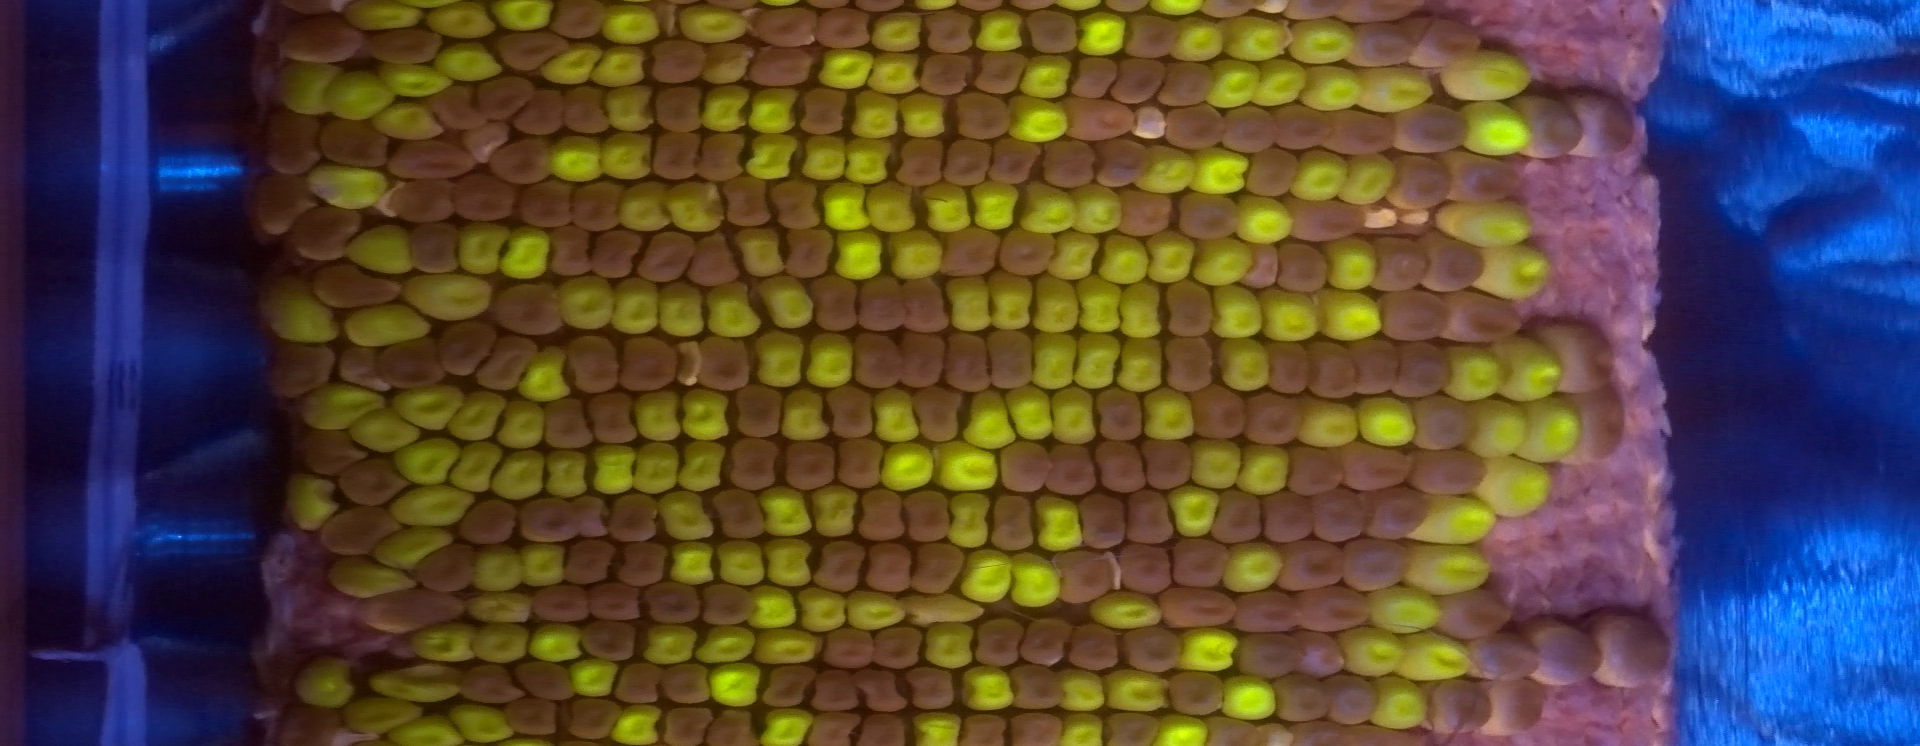fluorescent: (1429, 48, 1538, 108), (1488, 331, 1566, 410), (1469, 451, 1553, 526), (261, 271, 348, 342), (285, 381, 389, 432), (1250, 281, 1329, 347), (752, 274, 827, 343), (1406, 539, 1494, 595), (402, 269, 496, 322), (1441, 200, 1533, 254), (1434, 342, 1509, 408), (1411, 489, 1491, 549), (272, 58, 353, 118), (1477, 243, 1553, 305), (322, 67, 405, 124), (1522, 390, 1583, 464), (279, 470, 344, 540), (1335, 625, 1406, 686), (1069, 323, 1129, 394), (928, 439, 1002, 496), (1468, 392, 1524, 467), (340, 223, 418, 277), (365, 661, 464, 703), (1135, 383, 1201, 446), (1311, 290, 1386, 345), (1172, 621, 1240, 681), (1458, 98, 1529, 156), (290, 655, 362, 712), (1287, 15, 1362, 69), (1365, 586, 1441, 638), (348, 299, 433, 345), (328, 551, 414, 598), (1024, 323, 1080, 393), (339, 693, 433, 735), (1220, 12, 1296, 64), (446, 388, 509, 450), (654, 281, 714, 345), (384, 484, 478, 526), (1112, 333, 1172, 397), (962, 390, 1022, 453), (1044, 385, 1100, 453), (345, 404, 420, 454), (700, 281, 763, 341), (1296, 393, 1359, 452), (1393, 628, 1464, 681), (664, 179, 729, 236), (967, 175, 1024, 241), (369, 98, 441, 149), (1236, 434, 1291, 501), (1207, 58, 1269, 118), (560, 274, 621, 334), (1338, 146, 1397, 208), (1216, 331, 1273, 394), (753, 327, 807, 394), (391, 437, 467, 485), (1209, 282, 1267, 343), (1354, 396, 1420, 450), (1217, 673, 1283, 726), (1064, 179, 1123, 239), (833, 224, 890, 285), (369, 524, 451, 567), (673, 4, 756, 47), (307, 165, 389, 208), (1356, 66, 1433, 111), (1089, 586, 1160, 635), (1004, 377, 1056, 445), (1233, 186, 1291, 246), (940, 271, 998, 331), (1296, 65, 1368, 113), (516, 344, 572, 405), (1370, 679, 1431, 735), (632, 441, 682, 510), (984, 267, 1038, 331), (1102, 668, 1176, 714), (1036, 491, 1087, 557), (751, 626, 825, 671), (756, 480, 813, 539), (489, 443, 545, 503), (740, 86, 803, 138), (1005, 554, 1063, 611), (1071, 279, 1128, 338), (880, 439, 936, 499), (658, 489, 718, 544), (1113, 278, 1164, 342), (372, 60, 456, 99), (1194, 236, 1251, 293), (1287, 145, 1347, 198), (1029, 273, 1082, 333), (866, 383, 920, 443), (1022, 179, 1075, 240), (610, 274, 662, 336), (678, 382, 730, 445), (1224, 543, 1281, 599), (500, 228, 557, 283), (1100, 229, 1153, 288), (432, 43, 508, 85), (1142, 232, 1198, 288), (891, 229, 947, 285), (962, 546, 1015, 605), (959, 661, 1018, 714), (760, 539, 820, 590), (392, 388, 468, 429), (1009, 96, 1071, 145), (451, 436, 500, 499), (540, 443, 588, 507), (921, 180, 973, 238), (1191, 434, 1244, 491), (804, 330, 853, 391), (811, 481, 858, 544), (468, 624, 533, 669), (707, 664, 767, 713), (447, 699, 516, 742), (427, 2, 504, 40), (539, 40, 600, 88), (860, 176, 913, 230), (1057, 665, 1111, 719), (849, 89, 901, 145), (782, 383, 831, 442), (410, 624, 475, 668), (1320, 245, 1381, 292), (1191, 146, 1245, 198), (1163, 484, 1217, 537), (896, 87, 951, 138), (743, 127, 795, 183), (1071, 9, 1129, 58), (1254, 60, 1311, 109), (948, 491, 996, 550), (675, 436, 720, 497), (847, 589, 909, 635), (818, 179, 871, 232), (797, 582, 850, 635), (841, 134, 893, 187), (975, 9, 1031, 58), (476, 545, 529, 597), (714, 537, 767, 588), (602, 132, 658, 181), (590, 43, 648, 89), (599, 5, 665, 45), (496, 398, 549, 448), (666, 540, 719, 590), (747, 586, 801, 635), (593, 440, 640, 495), (547, 137, 604, 184), (386, 714, 468, 746), (700, 85, 751, 136), (620, 180, 670, 232), (1048, 230, 1100, 281), (1172, 17, 1224, 66), (518, 541, 572, 589), (864, 55, 924, 98), (802, 132, 849, 187), (1142, 147, 1193, 197), (636, 391, 683, 442), (454, 222, 501, 274), (644, 621, 700, 664), (471, 593, 541, 627), (1142, 713, 1215, 746), (926, 624, 978, 669), (909, 709, 973, 746), (871, 12, 926, 55), (816, 49, 871, 92), (493, 1, 562, 36), (1018, 54, 1071, 97), (567, 653, 616, 699), (758, 706, 814, 746), (524, 620, 577, 663), (606, 87, 654, 134), (700, 627, 754, 668), (348, 1, 424, 29), (606, 706, 664, 740), (1056, 719, 1127, 746)
nonfluorescent: (1587, 611, 1679, 695), (312, 258, 416, 317), (1540, 322, 1620, 398), (1440, 285, 1531, 345), (1523, 621, 1605, 686), (358, 590, 468, 637), (1340, 533, 1416, 600), (1389, 102, 1471, 160), (1570, 387, 1631, 462), (266, 107, 327, 181), (1478, 677, 1553, 737), (490, 281, 564, 341), (320, 503, 400, 559), (1571, 87, 1633, 158), (1442, 149, 1518, 207), (429, 317, 497, 381), (287, 200, 360, 258), (1520, 94, 1584, 160), (276, 24, 370, 70), (269, 341, 342, 399), (313, 116, 396, 168), (1387, 341, 1456, 402), (1051, 545, 1119, 606), (1288, 586, 1380, 631), (1380, 290, 1453, 347), (1240, 383, 1304, 448), (372, 341, 452, 392), (1340, 439, 1416, 492), (1408, 447, 1491, 496), (1158, 584, 1242, 633), (561, 334, 624, 398), (1160, 334, 1221, 401), (249, 178, 321, 233), (447, 173, 522, 225), (696, 333, 758, 396), (474, 332, 538, 393), (846, 328, 906, 393), (1411, 394, 1478, 452), (340, 456, 415, 507), (655, 657, 726, 710), (981, 328, 1040, 393), (1084, 440, 1150, 497), (615, 336, 681, 393), (1347, 334, 1403, 402), (1326, 107, 1401, 157), (1422, 233, 1485, 292), (1307, 336, 1359, 407), (1318, 673, 1382, 730), (938, 224, 1005, 279), (1176, 189, 1244, 243), (1161, 665, 1229, 719), (560, 78, 620, 140), (1438, 595, 1521, 639), (419, 540, 481, 599), (1040, 134, 1104, 190), (1462, 633, 1540, 680), (1344, 24, 1424, 70), (1276, 540, 1349, 589), (1119, 625, 1193, 674), (1116, 539, 1179, 595), (1392, 156, 1453, 213), (779, 435, 840, 492), (900, 485, 956, 548), (1224, 586, 1304, 630), (386, 176, 459, 224), (942, 332, 994, 398), (1064, 96, 1139, 142), (277, 699, 351, 746), (1375, 233, 1434, 292), (1286, 440, 1344, 499), (1365, 478, 1425, 535), (1412, 21, 1484, 69), (1428, 676, 1489, 733), (856, 274, 910, 338), (564, 178, 628, 232), (331, 341, 394, 394), (746, 42, 816, 91), (584, 578, 654, 627), (516, 492, 580, 545), (753, 9, 830, 53), (612, 534, 678, 586), (509, 658, 580, 706), (636, 222, 693, 281), (587, 392, 645, 450), (1138, 437, 1198, 494), (726, 435, 782, 495), (1109, 54, 1171, 109), (1194, 380, 1248, 442), (847, 663, 910, 717), (1291, 200, 1369, 243), (514, 178, 578, 230), (902, 661, 969, 712), (683, 232, 740, 290), (1065, 619, 1124, 675), (732, 380, 787, 440), (996, 439, 1051, 499), (1122, 488, 1177, 548), (1273, 674, 1333, 729), (377, 26, 454, 69), (1160, 103, 1231, 149), (456, 499, 523, 548), (1044, 439, 1097, 501), (1265, 337, 1316, 401), (1164, 282, 1220, 341), (913, 386, 969, 445), (587, 225, 645, 281), (855, 484, 909, 544), (1307, 488, 1367, 541), (1096, 387, 1149, 448), (651, 81, 713, 134), (430, 83, 493, 134), (811, 2, 876, 51), (996, 225, 1060, 274), (1244, 148, 1302, 203), (720, 171, 775, 229), (782, 225, 840, 281), (863, 541, 921, 597), (405, 220, 460, 278), (808, 274, 862, 333), (1078, 492, 1131, 551), (540, 394, 594, 453), (604, 489, 662, 543), (803, 663, 864, 714), (389, 140, 475, 176), (1258, 490, 1314, 545), (1163, 58, 1221, 111), (1278, 239, 1332, 296), (1269, 98, 1327, 151), (825, 386, 878, 445), (835, 435, 888, 494), (811, 537, 871, 588), (1220, 105, 1282, 154), (898, 327, 947, 390), (491, 29, 564, 71), (305, 428, 367, 477), (639, 579, 707, 625), (471, 73, 542, 116), (1119, 187, 1176, 241), (1213, 488, 1267, 544), (909, 540, 965, 594), (767, 179, 824, 232), (647, 40, 705, 92), (1173, 537, 1238, 583), (1095, 706, 1169, 746), (1005, 661, 1065, 712), (1239, 630, 1300, 679), (561, 695, 622, 744), (454, 661, 520, 707), (989, 492, 1037, 555), (899, 279, 951, 336), (1096, 138, 1155, 189), (547, 223, 598, 282), (795, 86, 856, 134), (713, 488, 767, 541), (1027, 7, 1085, 58), (528, 583, 595, 626), (917, 51, 976, 100), (648, 134, 707, 183), (514, 87, 571, 137), (958, 92, 1015, 141), (820, 628, 884, 673), (489, 135, 547, 183), (1120, 15, 1182, 60), (1296, 631, 1351, 681), (1068, 54, 1127, 100), (612, 658, 670, 704), (944, 134, 994, 186), (564, 539, 621, 586), (563, 496, 621, 541), (849, 708, 917, 746), (874, 625, 926, 675), (699, 129, 747, 183), (579, 621, 643, 661), (658, 703, 718, 746), (978, 619, 1029, 669), (1019, 617, 1071, 665), (1000, 710, 1070, 746), (800, 706, 861, 746), (506, 695, 563, 737), (975, 49, 1026, 97), (700, 581, 756, 625), (924, 10, 976, 56), (988, 137, 1040, 184), (550, 1, 602, 45), (898, 140, 947, 186), (955, 710, 1016, 746), (700, 709, 759, 746), (456, 124, 514, 160), (1200, 713, 1262, 746), (760, 668, 812, 703)
